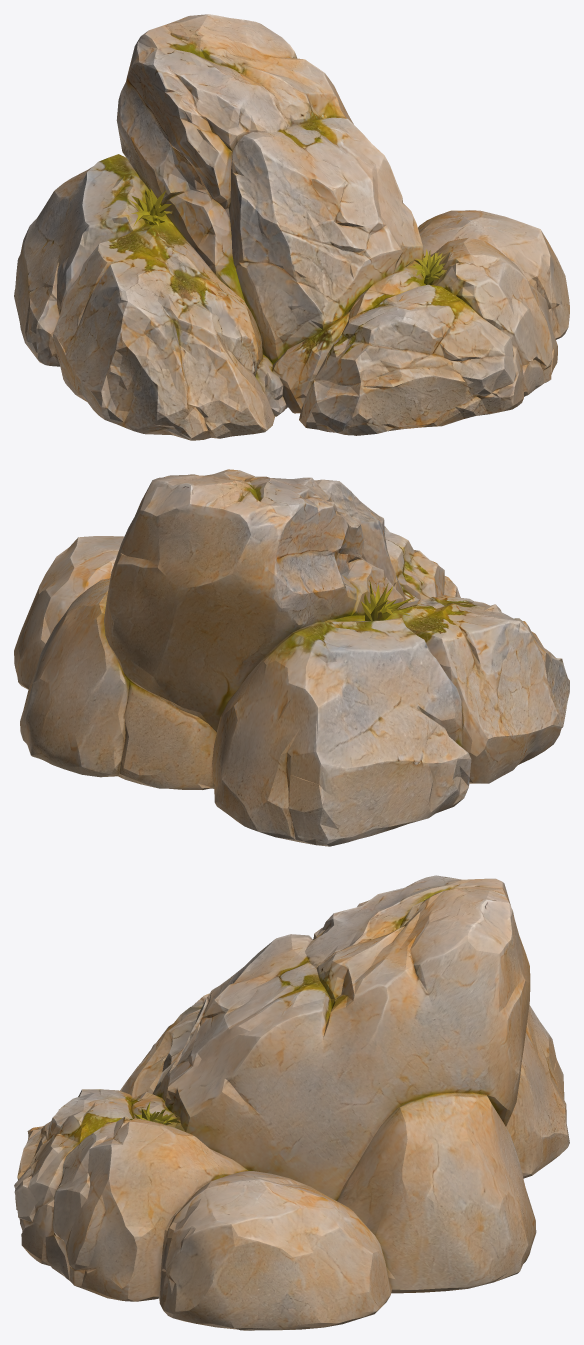
Rendered from base_basic_pbr.glb.
The picture shows the model from 3 angles, top to bottom: view 1: azimuth 30°, elevation 25°; view 2: azimuth 150°, elevation 25°; view 3: azimuth 270°, elevation 25°; orthographic projection. The views are drawn at different scales.
Parts seen in each view (by area): view 1: model; view 2: model; view 3: model.
Part boxes in pixels (<box>): model: <box>14,14,569,440</box>; model: <box>14,469,569,846</box>; model: <box>14,875,569,1330</box>.
Size of the model in its own units: 1.9 by 1.06 by 1.77.
Materials: 1 (1 with a texture image).
